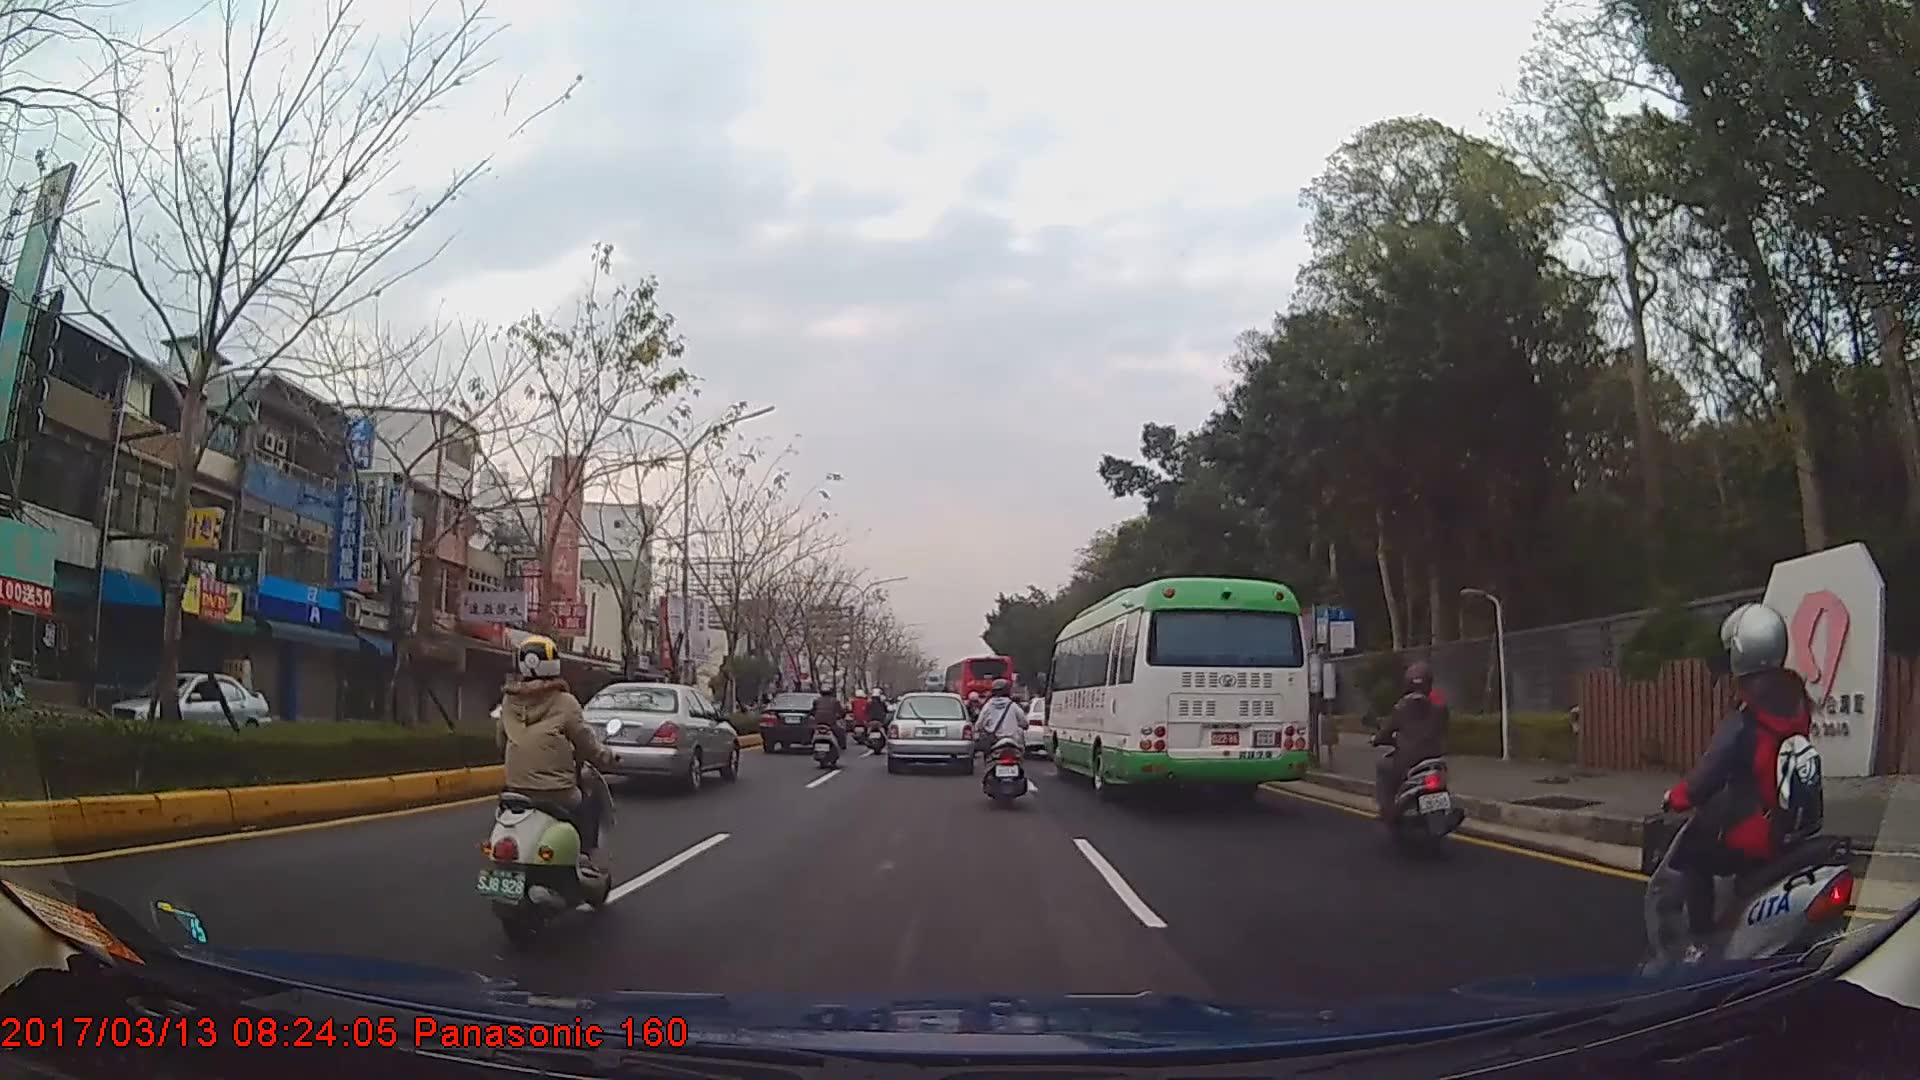pedestrian: (1398, 671, 1450, 757)
rider: (1645, 602, 1861, 1043), (475, 631, 617, 945), (1367, 652, 1464, 858), (970, 676, 1028, 805), (812, 683, 848, 771), (866, 687, 890, 754), (849, 688, 873, 745)
vehicle: (1042, 574, 1310, 801), (567, 678, 738, 792), (100, 663, 269, 744), (883, 688, 974, 770), (758, 689, 848, 754), (942, 649, 1011, 719)
